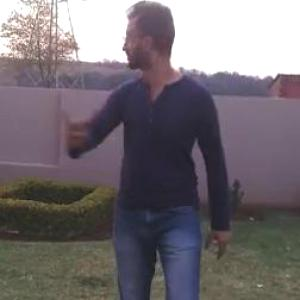takeoff-hand: (52, 98, 98, 164)
